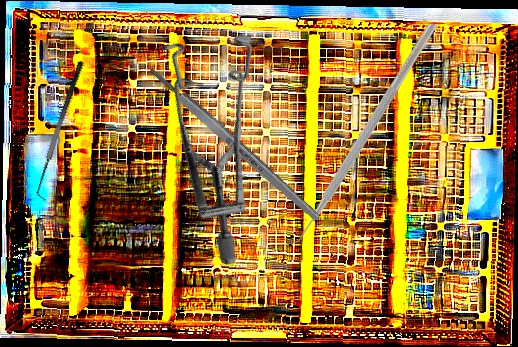Chopper: (273, 24, 438, 245)
Scalpel Handle: (145, 62, 324, 226)
Spatula Surgical: (28, 60, 96, 202)
Speculum: (86, 0, 335, 269)
